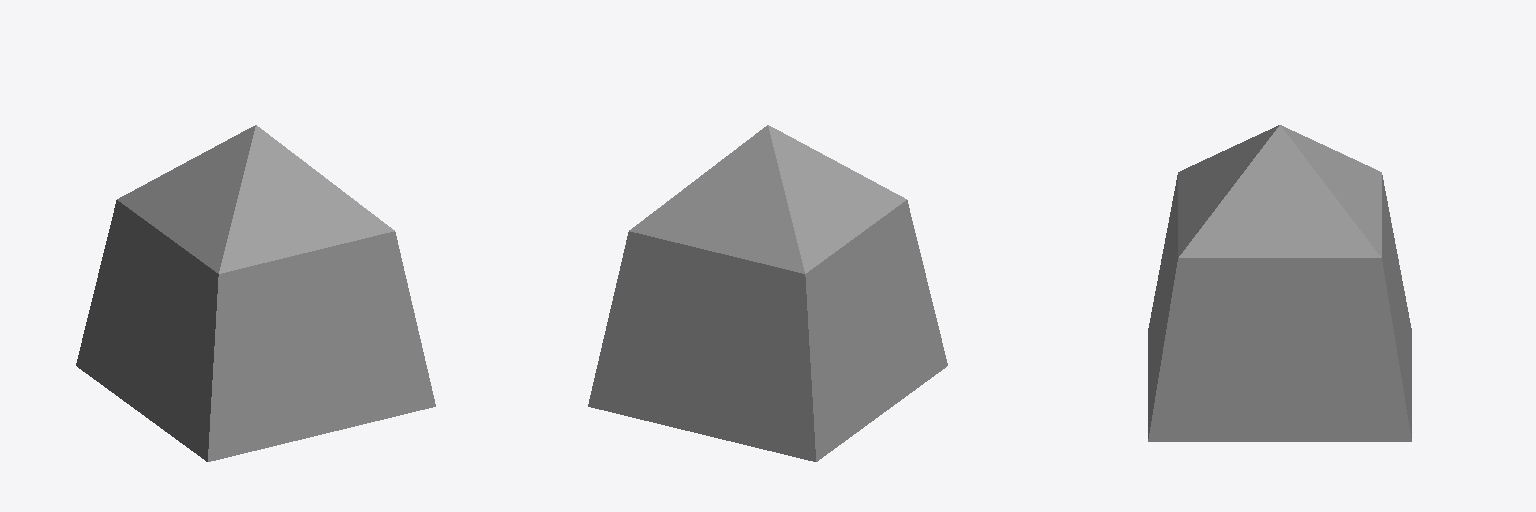
File: rock.obj
The picture shows the model from 3 angles: view 1: azimuth 30°, elevation 25°; view 2: azimuth 150°, elevation 25°; view 3: azimuth 270°, elevation 25°; orthographic projection.
Parts seen in each view (by area): view 1: Cube; view 2: Cube; view 3: Cube.
Boxes of the visible parts, box(x1,y1,x2,y2) form: Cube: box(76, 125, 435, 461); Cube: box(588, 125, 947, 461); Cube: box(1148, 125, 1411, 441).
Size of the model in its own units: 2 by 2.18 by 2.